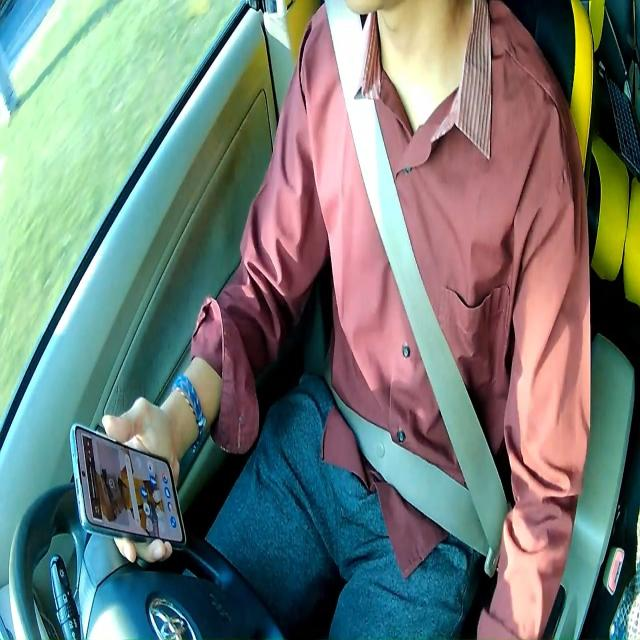phone: (68, 420, 188, 556)
